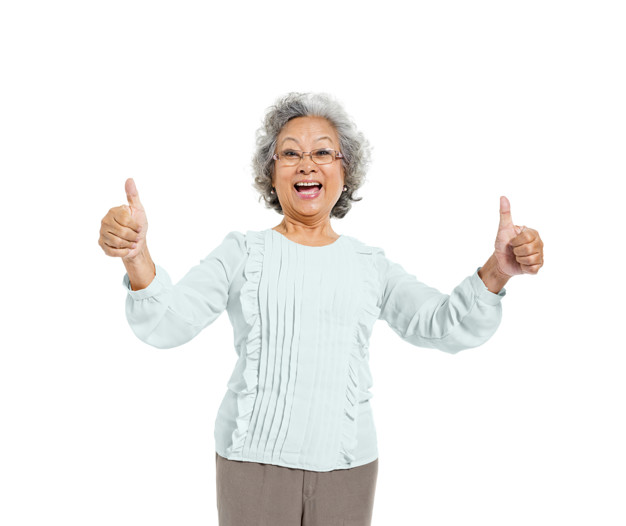thumbsup: (498, 195, 544, 275), (98, 177, 142, 258)
